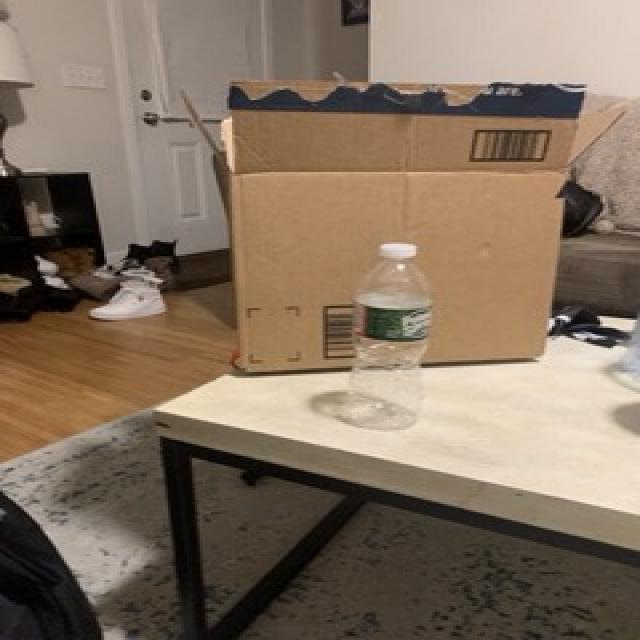water_bottle: (346, 240, 434, 433)
